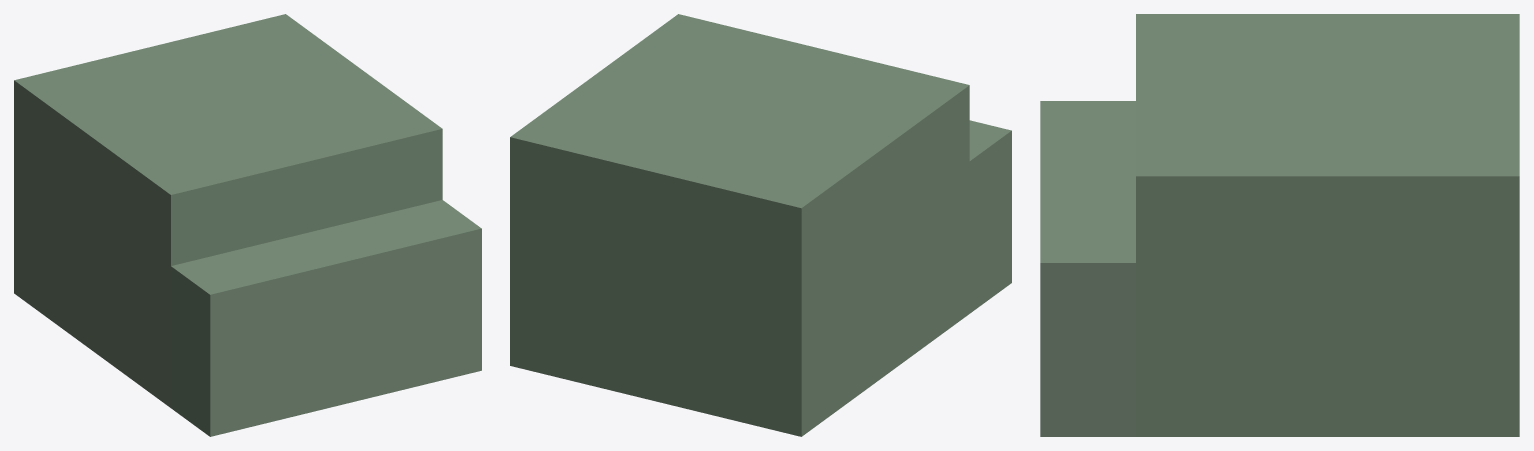
File: roca_musgosa_03.glb
3 renders of one model, left to right at view 1: azimuth 30°, elevation 25°; view 2: azimuth 150°, elevation 25°; view 3: azimuth 270°, elevation 25°, orthographic. The views are drawn at different scales.
Parts seen in each view (by area): view 1: roca_musgosa_03; view 2: roca_musgosa_03; view 3: roca_musgosa_03.
Boxes of the visible parts, x1,y1,x2,y2 form: roca_musgosa_03: (14, 14, 481, 436); roca_musgosa_03: (510, 14, 1011, 436); roca_musgosa_03: (1040, 14, 1519, 436).
Bounding box in the file's own units: 0.8 × 0.6 × 1.
